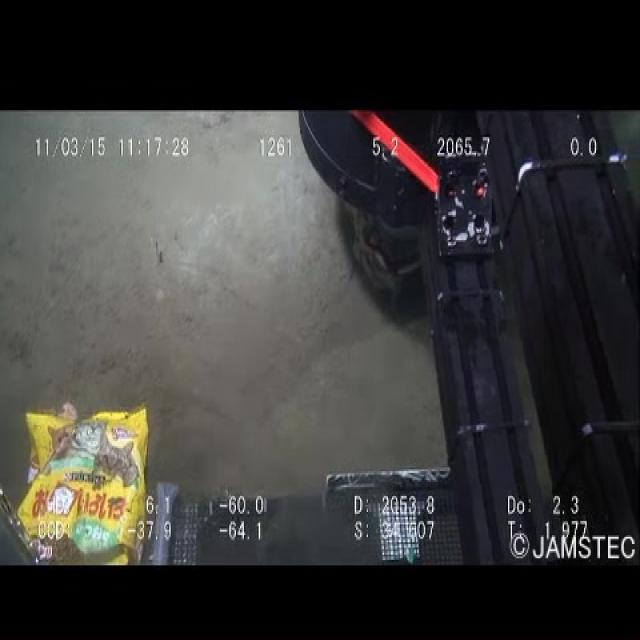plastic: (0, 402, 156, 564)
